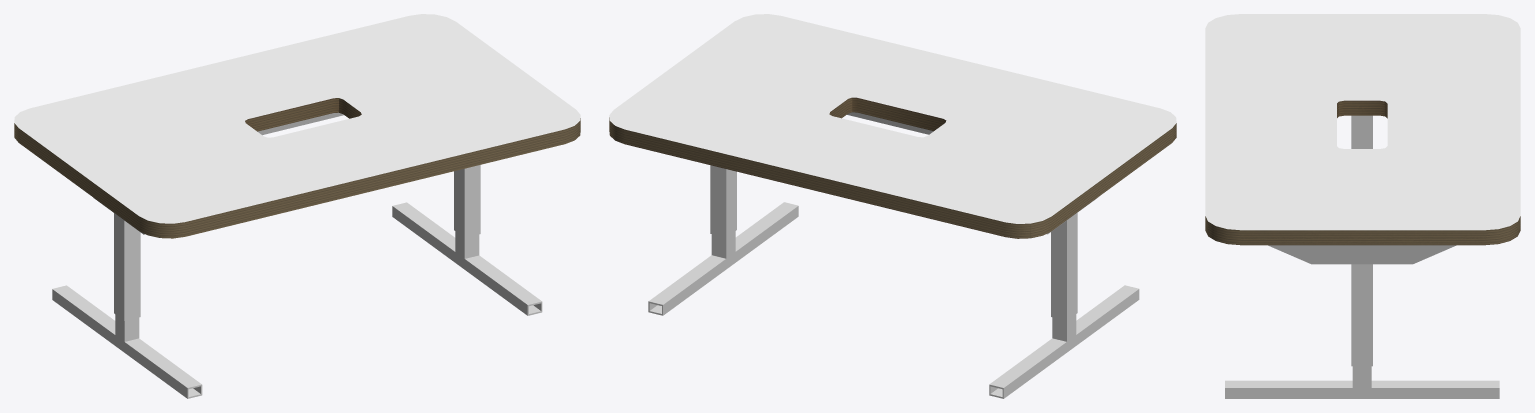
File: table.fbx
The picture shows the model from 3 angles, left to right: view 1: azimuth 30°, elevation 25°; view 2: azimuth 150°, elevation 25°; view 3: azimuth 270°, elevation 25°; orthographic projection.
Visible parts, largest first — view 1: table.013; view 2: table.013; view 3: table.013.
Boxes of the visible parts, x1=… form: table.013: x1=14, y1=14, x2=580, y2=398; table.013: x1=609, y1=14, x2=1176, y2=398; table.013: x1=1205, y1=14, x2=1520, y2=398.
Size of the model in its own units: 59.73 by 24.4 by 36.78.
